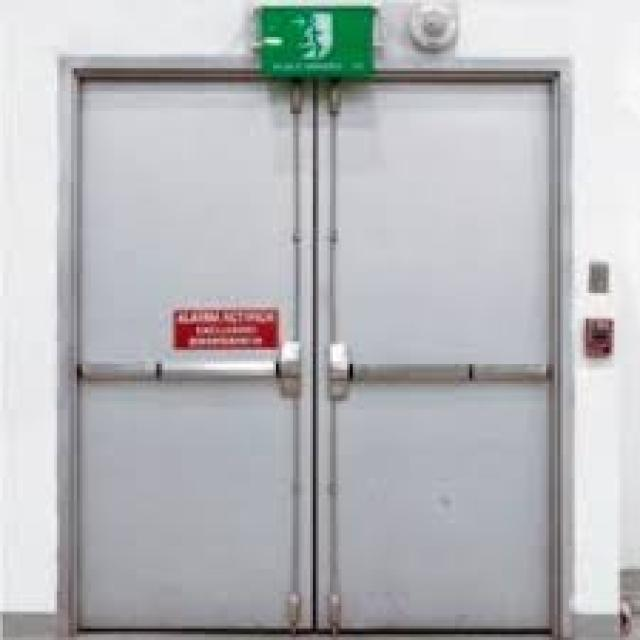door: (68, 64, 563, 639)
